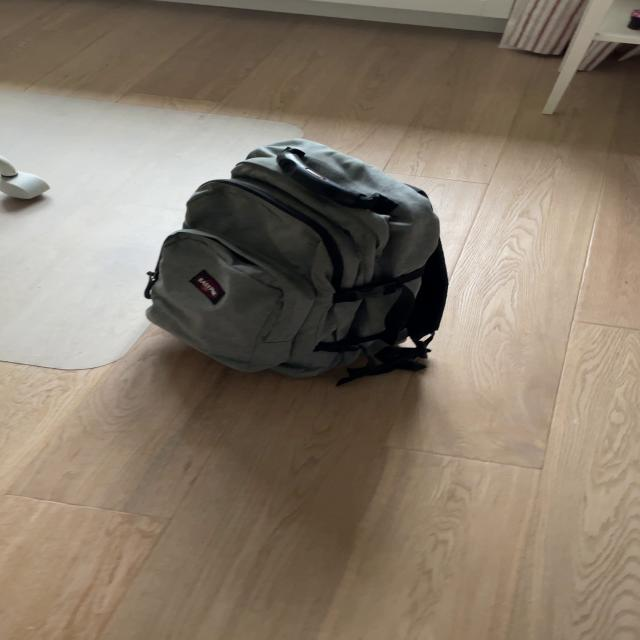backpack: (132, 127, 460, 383)
